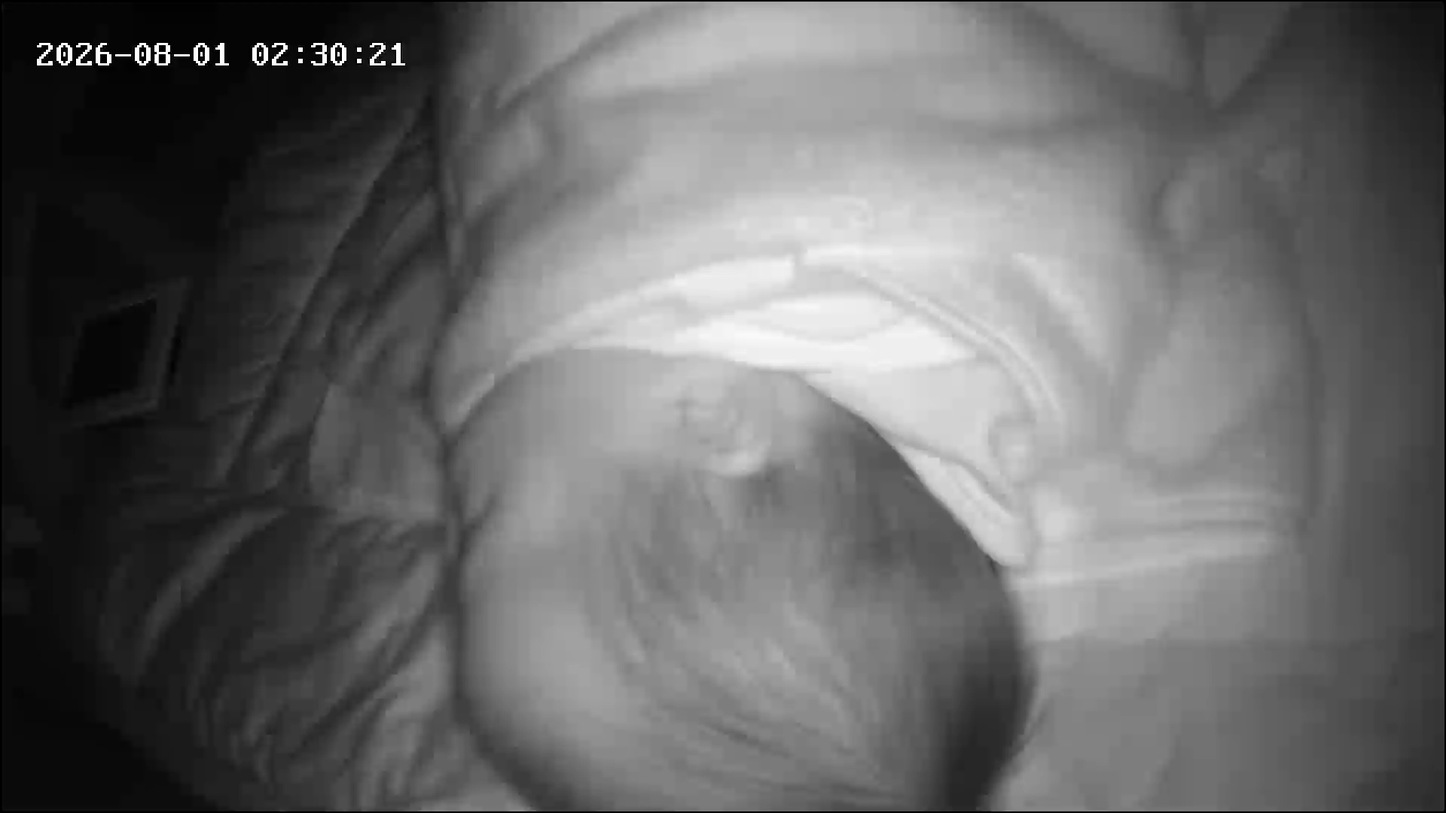baby: (418, 3, 1050, 813)
baby_face: (428, 349, 1011, 811)
